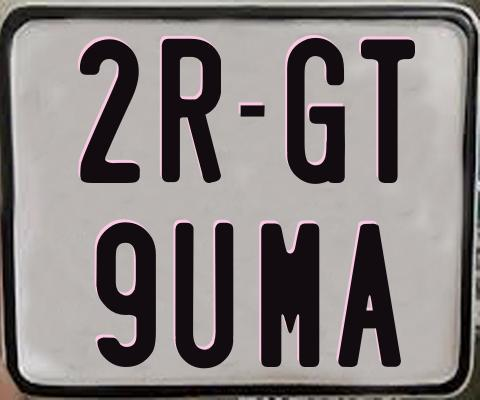2: (77, 39, 143, 186)
9: (93, 219, 153, 367)
A: (337, 221, 406, 365)
G: (287, 38, 348, 186)
M: (258, 221, 318, 369)
R: (160, 37, 221, 181)
T: (360, 39, 415, 183)
U: (172, 222, 233, 371)
